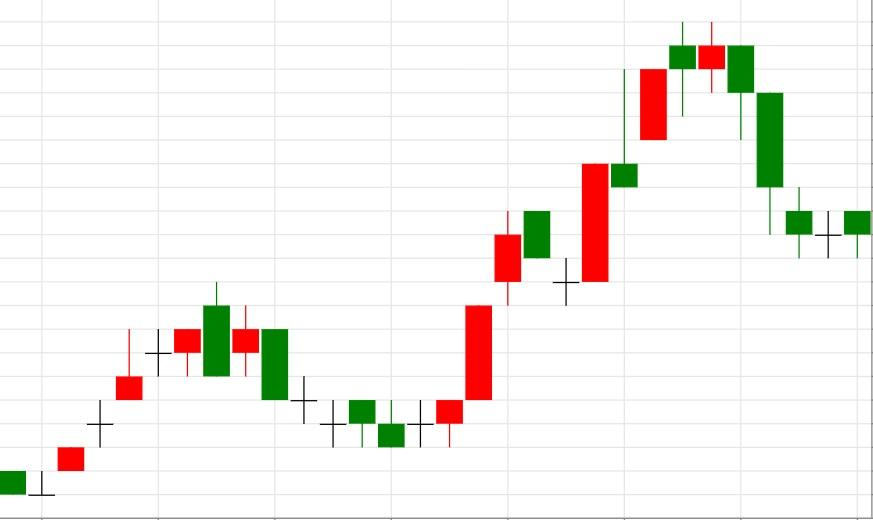three_black_crows_fall: (552, 22, 813, 305)
three_white_soldiers_rise: (203, 210, 522, 447)
